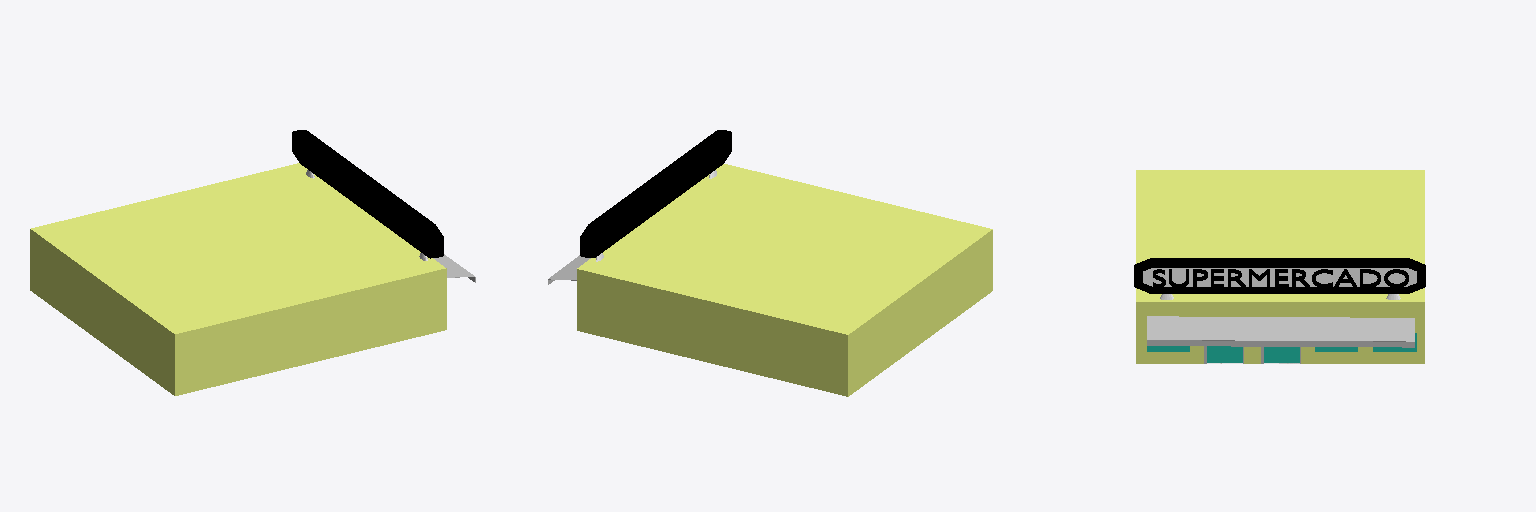
The picture shows the model from 3 angles: view 1: azimuth 30°, elevation 25°; view 2: azimuth 150°, elevation 25°; view 3: azimuth 270°, elevation 25°; orthographic projection.
Parts seen in each view (by area): view 1: Cube, Cylinder.000_Cylinder.003; view 2: Cube, Cylinder.000_Cylinder.003; view 3: Cube, Cube.001_Cube.002, Cylinder.000_Cylinder.003, Cylinder.001_Cylinder.002, Text_Text.001.
Part boxes in pixels (bbox=[...]): Cube: bbox=[30, 163, 446, 395]; Cylinder.000_Cylinder.003: bbox=[292, 130, 443, 258]; Cube: bbox=[577, 164, 992, 396]; Cylinder.000_Cylinder.003: bbox=[580, 130, 731, 257]; Cube: bbox=[1136, 170, 1424, 363]; Cube.001_Cube.002: bbox=[1147, 316, 1414, 347]; Cylinder.000_Cylinder.003: bbox=[1134, 258, 1425, 293]; Cylinder.001_Cylinder.002: bbox=[1143, 268, 1416, 299]; Text_Text.001: bbox=[1153, 269, 1408, 287].
Size of the model in its own units: 12.72 by 4.04 by 10.5.
Materials: 6 (1 with a texture image).